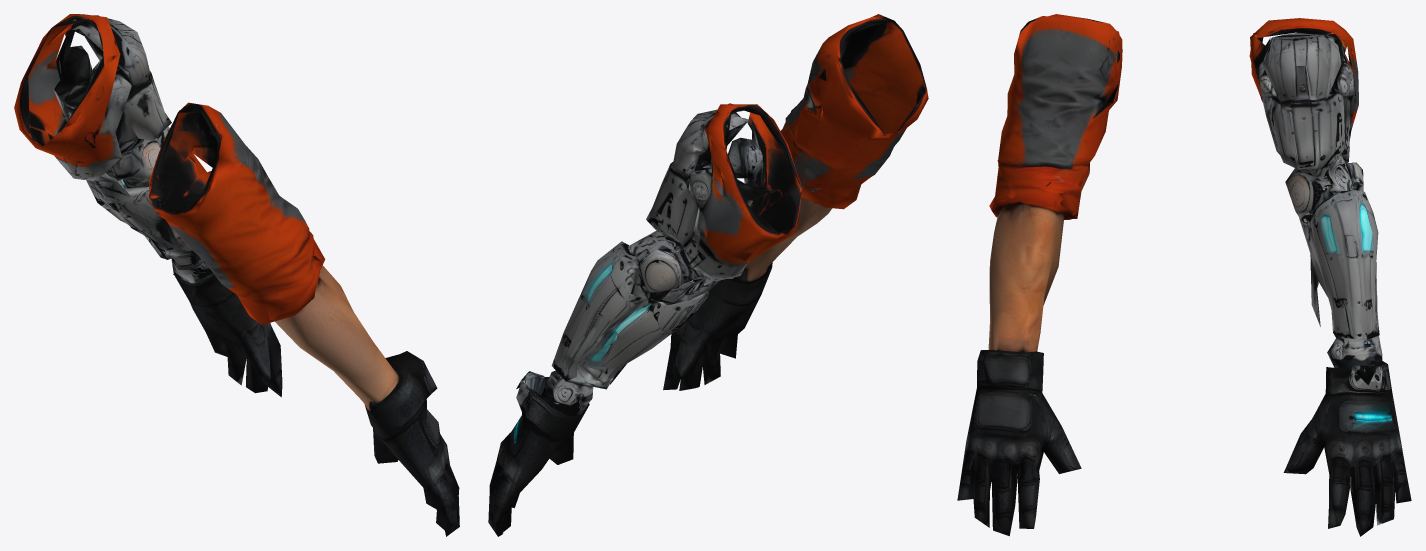
Rendered from tripo_convert_de14c643-0d04-44f2-9867-98518c827a61.fbx.
3 renders of one model, left to right at view 1: azimuth 30°, elevation 25°; view 2: azimuth 150°, elevation 25°; view 3: azimuth 270°, elevation 25°, orthographic. The views are drawn at different scales.
Parts seen in each view (by area): view 1: tripo_node_de14c643; view 2: tripo_node_de14c643; view 3: tripo_node_de14c643.
Boxes of the visible parts, x1,y1,x2,y2 form: tripo_node_de14c643: (14, 14, 459, 536); tripo_node_de14c643: (488, 14, 928, 536); tripo_node_de14c643: (957, 14, 1411, 536).
Size of the model in its own units: 0.6323 by 0.9996 by 0.9716.
Materials: 1 (1 with a texture image).
